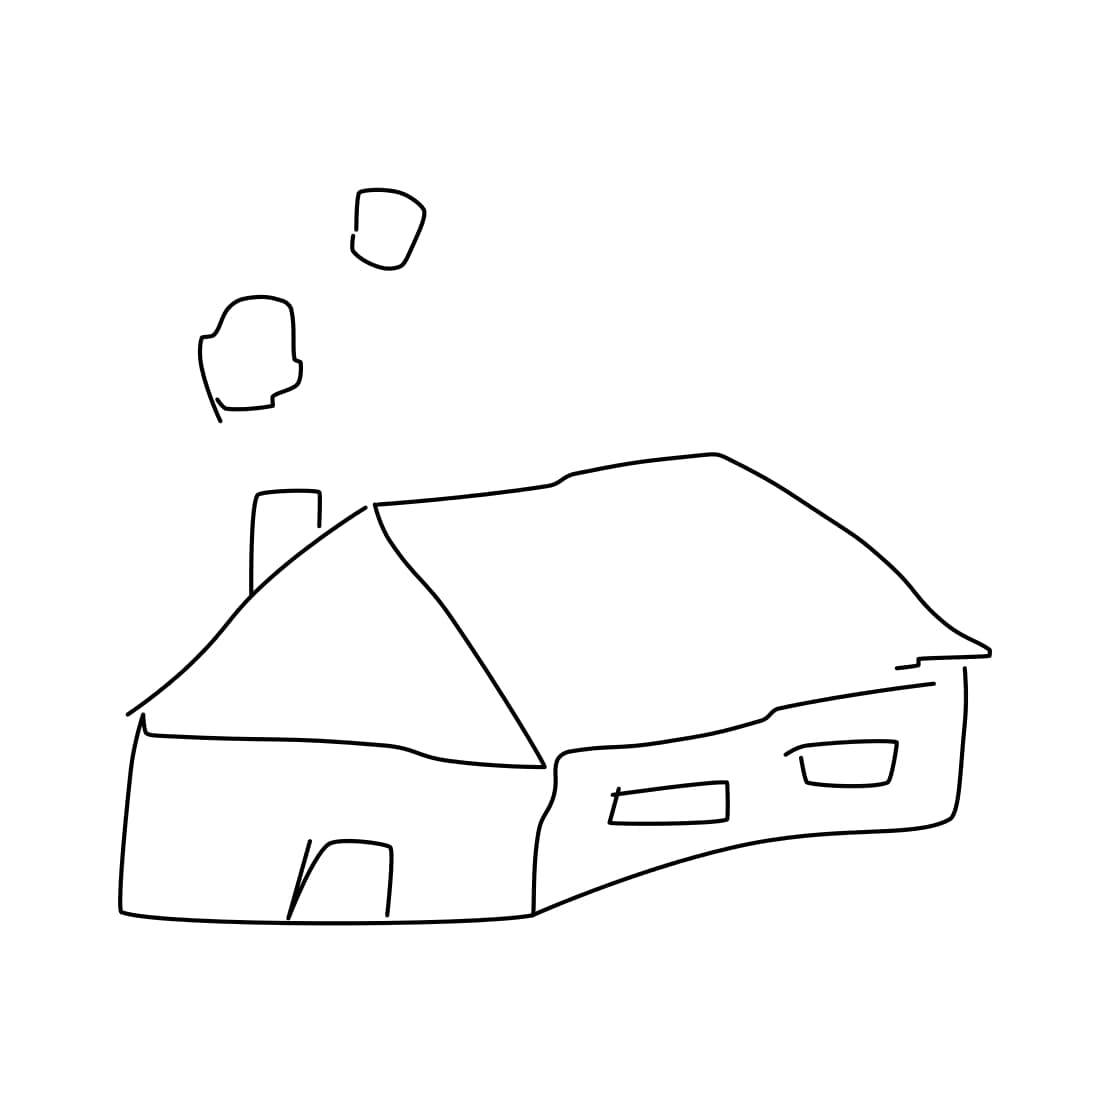House: (73, 406, 1004, 942)
